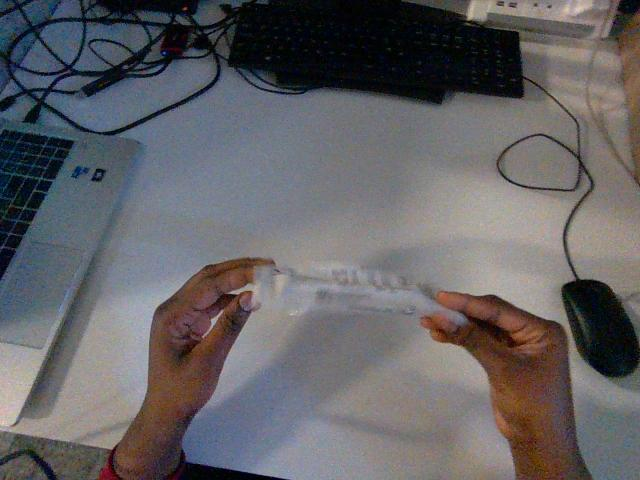syringe: (253, 264, 467, 325)
